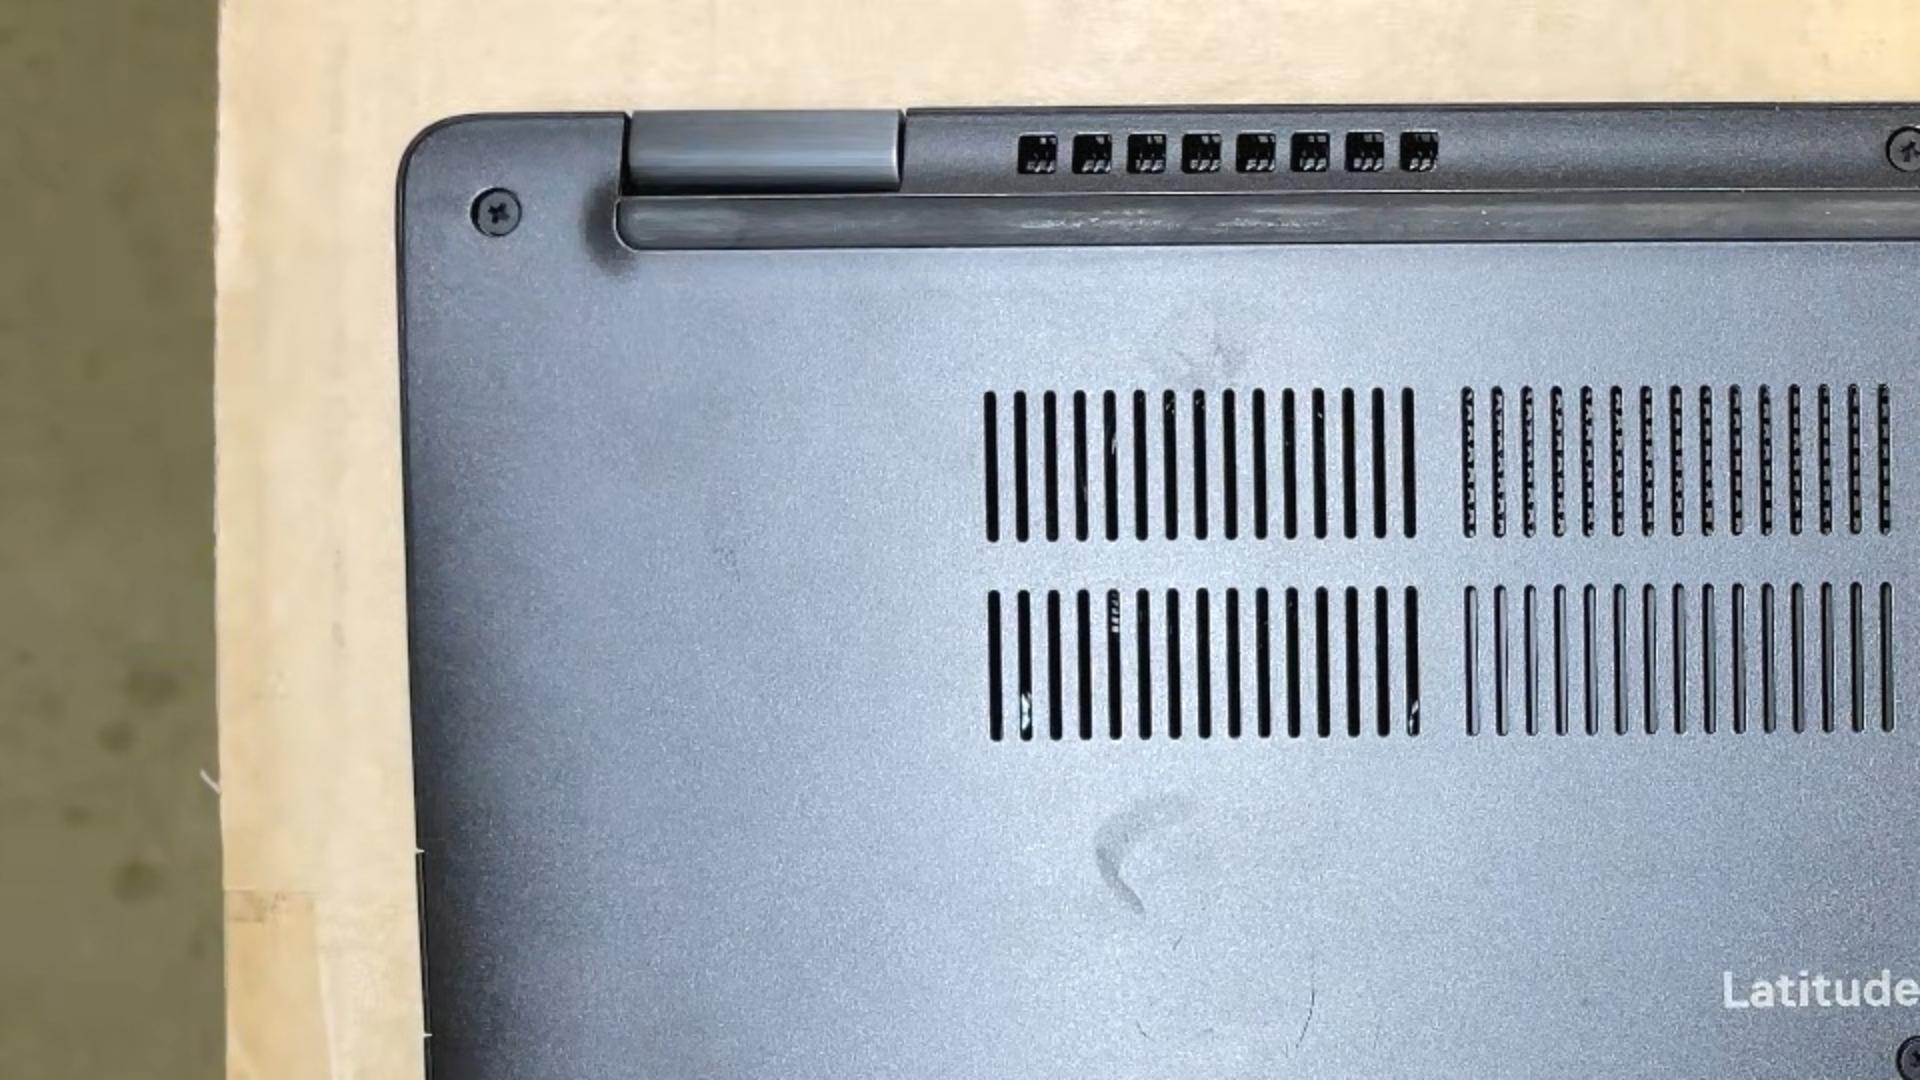scratches: (1292, 945, 1316, 1051), (1134, 1018, 1159, 1044), (1371, 1014, 1385, 1051), (1168, 934, 1185, 953)
